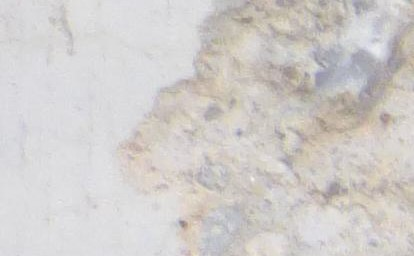Spalling: (116, 1, 414, 256)
